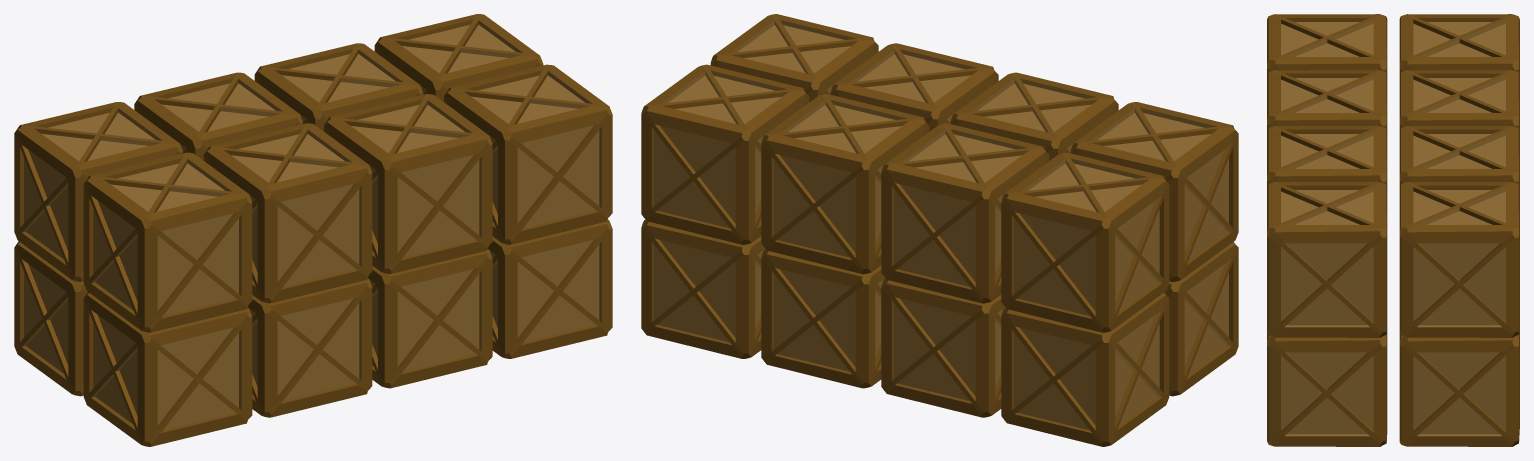
File: WoodenCrate 1.fbx
The picture shows the model from 3 angles, left to right: view 1: azimuth 30°, elevation 25°; view 2: azimuth 150°, elevation 25°; view 3: azimuth 270°, elevation 25°; orthographic projection. The views are drawn at different scales.
Parts seen in each view (by area): view 1: WoodenCrate; view 2: WoodenCrate; view 3: WoodenCrate.
Boxes of the visible parts, x1=… form: WoodenCrate: x1=14, y1=14, x2=612, y2=446; WoodenCrate: x1=641, y1=14, x2=1238, y2=446; WoodenCrate: x1=1267, y1=14, x2=1519, y2=446.
Size of the model in its own units: 466 by 217 by 228.
